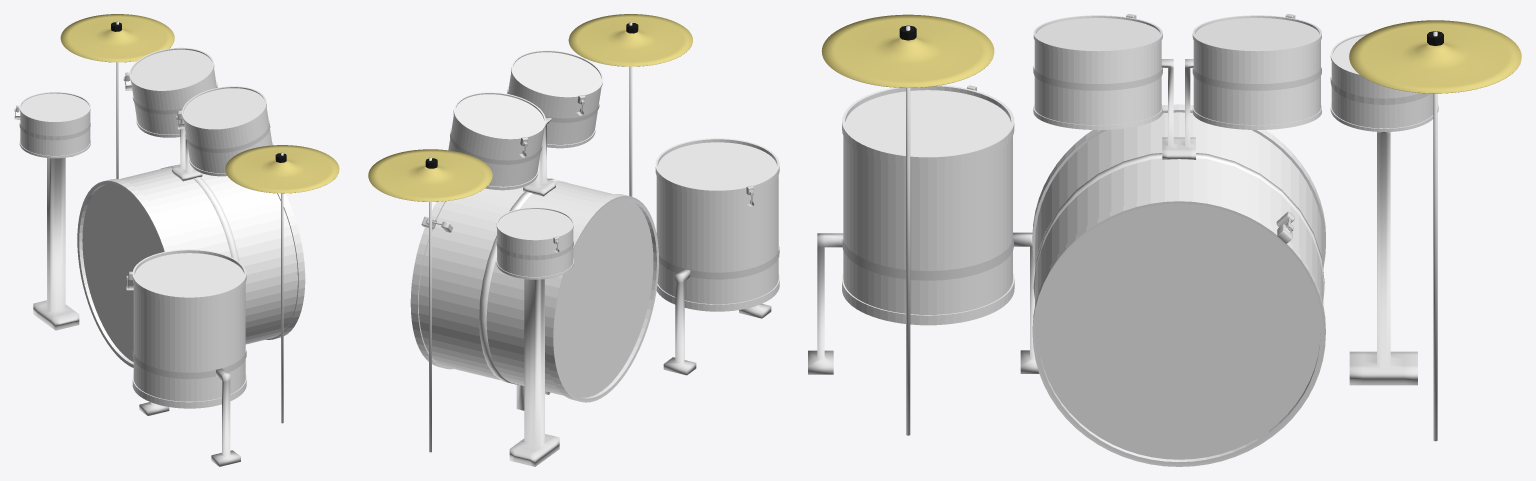
The model's file is DRUM SET.gltf.
3 views of the same model, side by side, from view 1: azimuth 30°, elevation 25°; view 2: azimuth 150°, elevation 25°; view 3: azimuth 270°, elevation 25° (orthographic). The views are drawn at different scales.
Parts seen in each view (by area): view 1: Cylinder, Cylinder.001, Cylinder.002, Cylinder.003, Cymbal.001, cymbal, Cylinder.004, Cube.008, Cube, Circle.001, Circle, Cylinder.007 (+4 smaller); view 2: Cylinder, Cylinder.001, Cylinder.003, Cylinder.002, cymbal, Cymbal.001, Cylinder.004, Cube.008, Circle, Cube.003, Circle.001, Cube.006 (+3 smaller); view 3: Cylinder, Cylinder.001, Cylinder.002, Cylinder.003, cymbal, Cymbal.001, Cube.008, Cylinder.004, Circle, Cube, Cube.006, Cylinder.006 (+5 smaller).
Boxes of the visible parts, x1,y1,x2,y2 form: Cylinder: (77,164,305,367); Cylinder.001: (132,249,246,408); Cylinder.002: (182,86,273,176); Cylinder.003: (129,47,216,137); Cymbal.001: (225,145,339,193); cymbal: (60,14,174,62); Cylinder.004: (19,92,90,158); Cube.008: (33,156,79,330); Cube: (211,368,240,466); Circle.001: (132,350,246,379); Circle: (161,165,239,261); Cylinder.007: (281,152,283,423); Cylinder: (410,178,658,402); Cylinder.001: (655,138,779,311); Cylinder.003: (448,92,545,190); Cylinder.002: (508,50,603,148); cymbal: (368,149,492,201); Cymbal.001: (568,14,692,66); Cylinder.004: (496,207,573,279); Cube.008: (509,279,559,466); Circle: (479,178,567,410); Cube.003: (663,269,696,375); Circle.001: (659,247,779,279); Cube.006: (523,118,555,196); Cylinder: (1032,104,1325,466); Cylinder.001: (842,85,1014,325); Cylinder.002: (1033,15,1162,129); Cylinder.003: (1192,15,1321,129); cymbal: (1349,20,1521,93); Cymbal.001: (821,14,994,87); Cube.008: (1349,132,1417,385); Cylinder.004: (1330,32,1438,131); Circle: (1033,153,1324,298); Cube: (808,233,843,374); Cube.006: (1161,59,1195,159); Cylinder.006: (1433,31,1437,441).
Bounding box in the file's own units: 0.8148 × 1.11 × 1.65.
